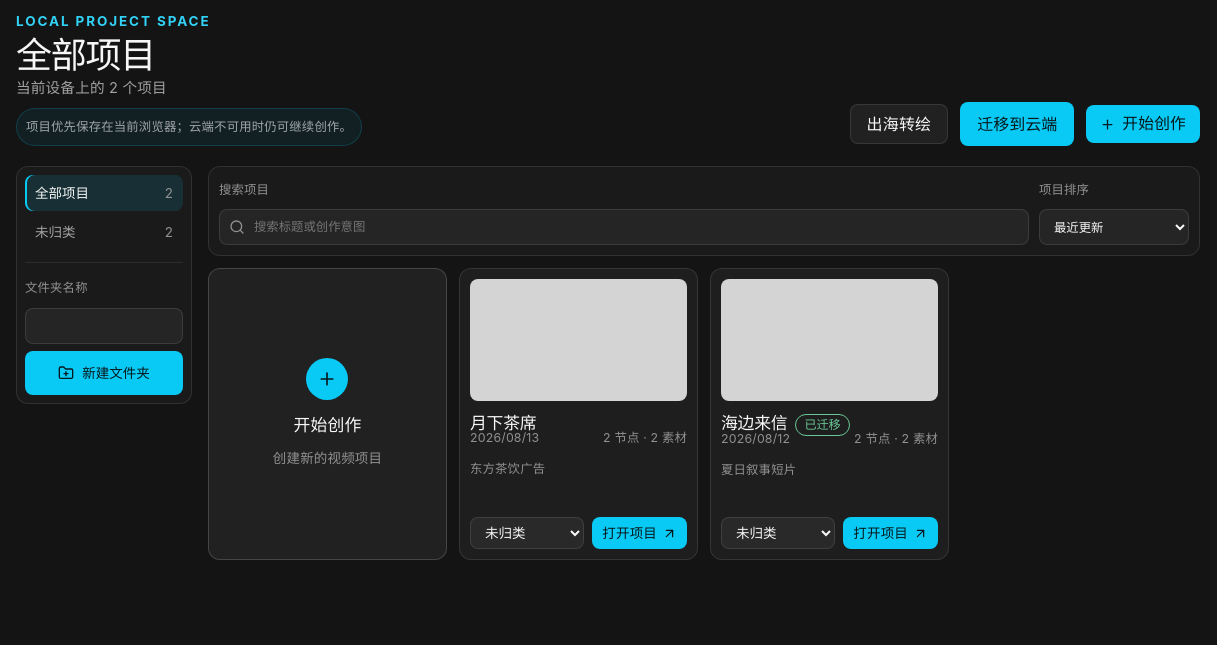
projects page › migrates local projects to cloud with progress and persisted status feedback
Expected: the heading "月下茶席" is shown, [470, 411, 536, 434]
Expected: the text "已迁移" is shown, [796, 414, 850, 436]
Click the button "迁移到云端" at (1017, 124), box [960, 102, 1074, 146]
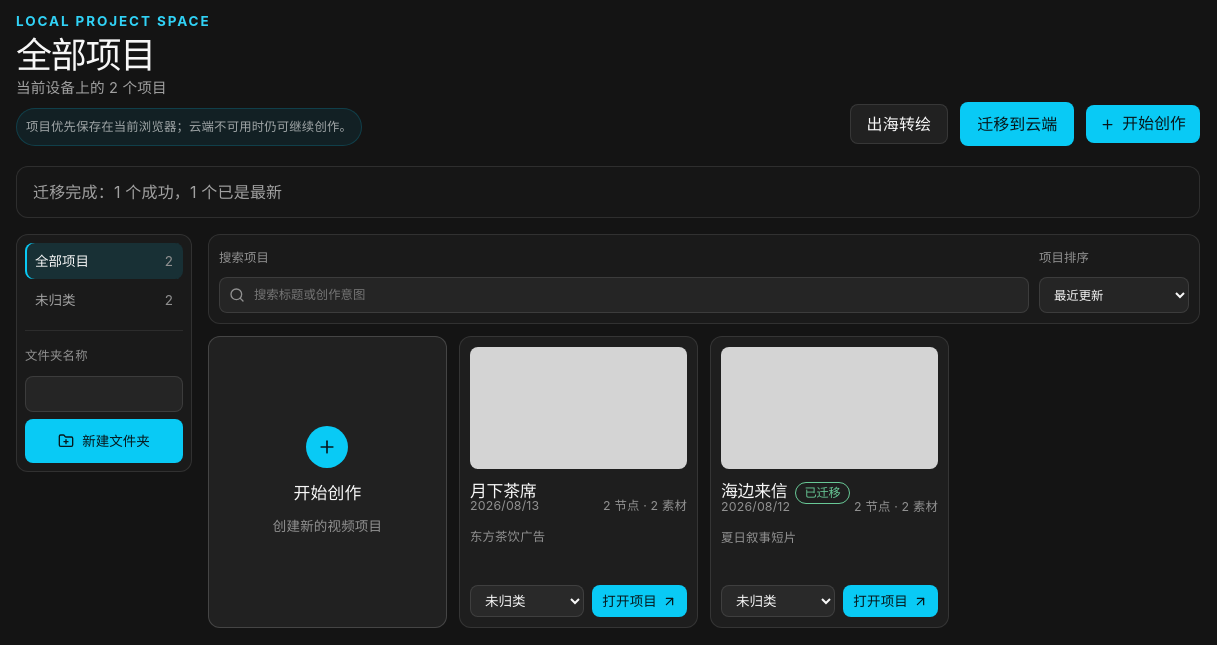
Result: the message reads "迁移完成：1 个成功，1 个已是最新" at [33, 182, 282, 202]
